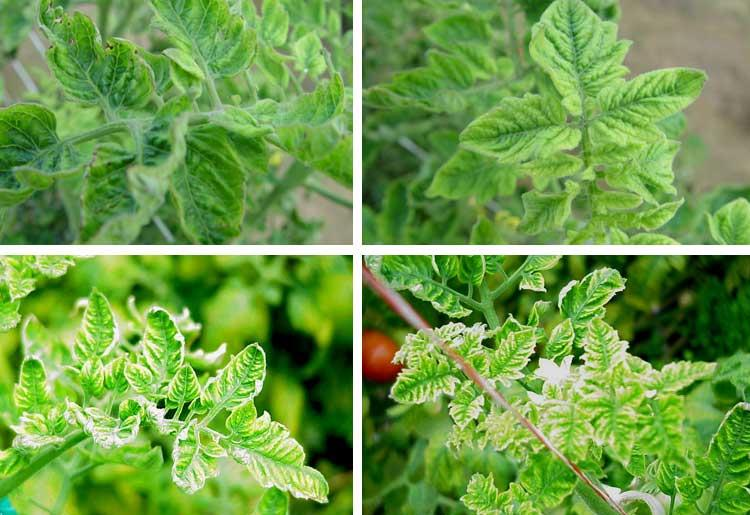Tomato leaf yellow virus: (34, 6, 161, 123), (0, 99, 110, 222), (168, 116, 269, 239), (205, 410, 335, 505), (524, 0, 622, 120), (595, 61, 715, 132), (138, 0, 248, 74), (439, 93, 570, 149), (165, 419, 239, 515), (197, 340, 274, 424), (691, 395, 750, 503), (123, 301, 185, 401), (586, 390, 644, 461), (75, 276, 117, 366), (388, 359, 457, 412), (516, 447, 571, 507), (489, 327, 541, 382), (585, 320, 630, 378), (18, 349, 52, 424), (460, 466, 506, 515), (157, 365, 205, 409), (544, 313, 575, 366), (76, 351, 108, 398)
